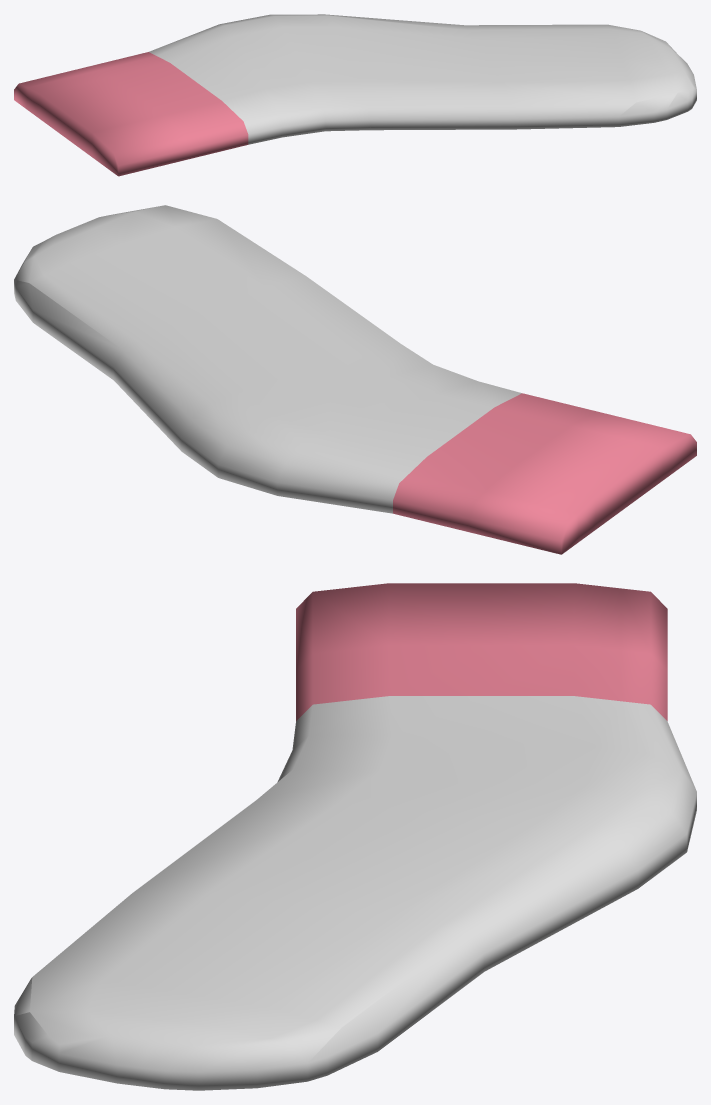
Rendered from Sock.fbx.
3 renders of one model, top to bottom at view 1: azimuth 30°, elevation 25°; view 2: azimuth 150°, elevation 25°; view 3: azimuth 270°, elevation 25°, orthographic. The views are drawn at different scales.
Parts seen in each view (by area): view 1: Cube; view 2: Cube; view 3: Cube.
Boxes of the visible parts, left/top/right/bottom form: Cube: left=14, top=14, right=696, bottom=176; Cube: left=14, top=205, right=696, bottom=554; Cube: left=14, top=583, right=696, bottom=1090.
Size of the model in its own units: 67.07 by 3.61 by 41.77.
